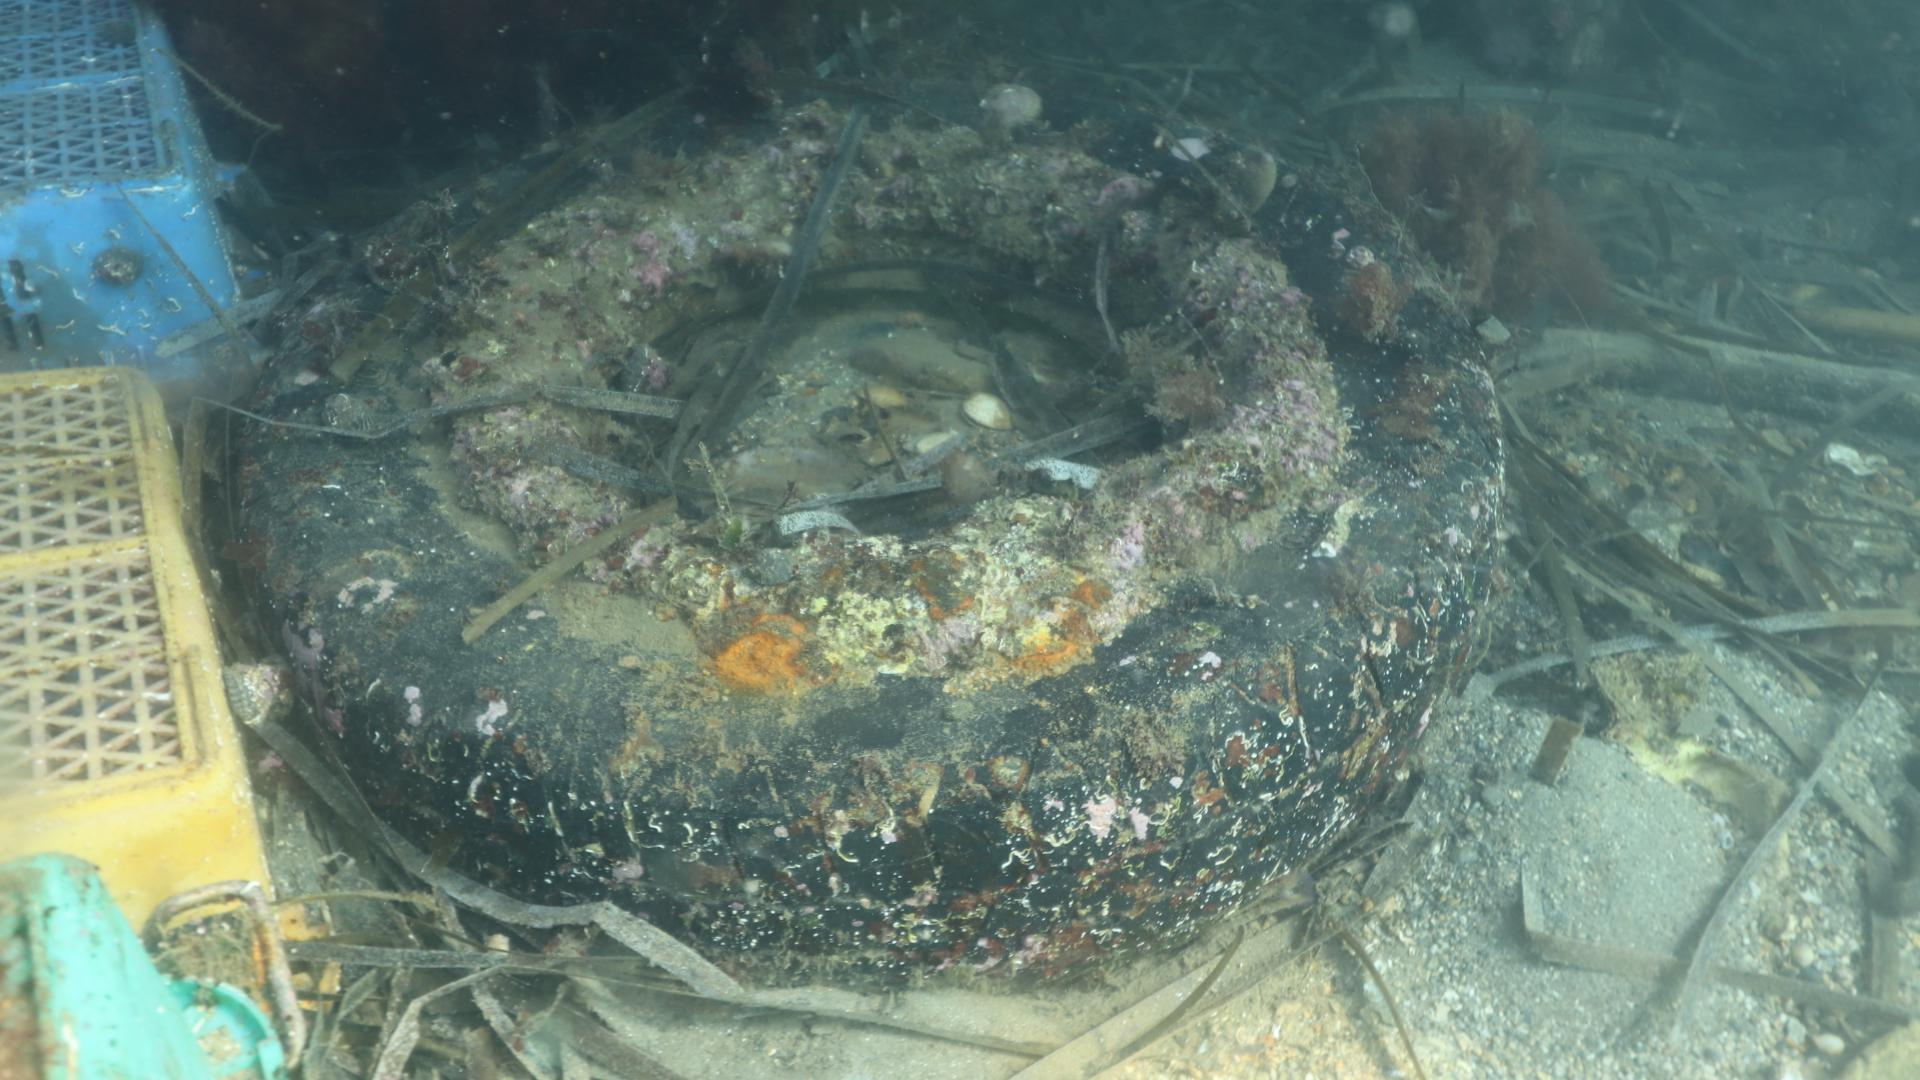tire: (237, 76, 1516, 986)
